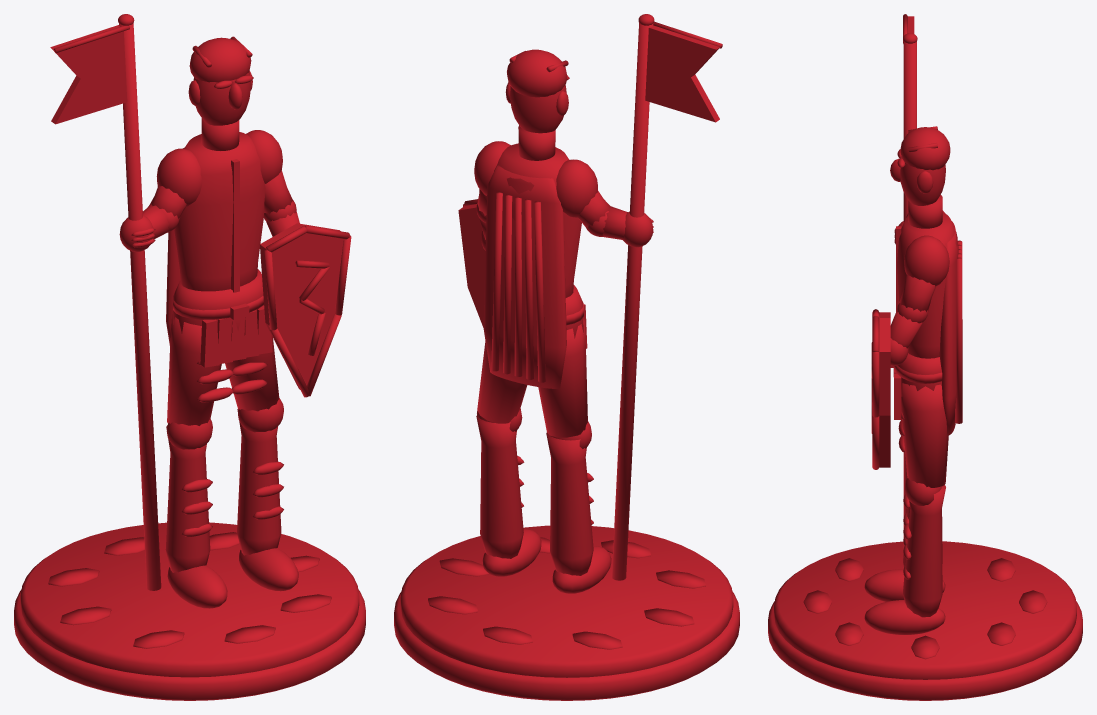
File: knight-level-2-resting.fbx
The picture shows the model from 3 angles, left to right: view 1: azimuth 30°, elevation 25°; view 2: azimuth 150°, elevation 25°; view 3: azimuth 270°, elevation 25°; orthographic projection. The views are drawn at different scales.
Parts seen in each view (by area): view 1: Knight_Level_2_Bare_Sculpt; view 2: Knight_Level_2_Bare_Sculpt; view 3: Knight_Level_2_Bare_Sculpt.
Boxes of the visible parts, x1,y1,x2,y2 form: Knight_Level_2_Bare_Sculpt: [14, 14, 365, 700]; Knight_Level_2_Bare_Sculpt: [394, 14, 739, 700]; Knight_Level_2_Bare_Sculpt: [768, 14, 1082, 700].
Bounding box in the file's own units: 0.012 × 0.024 × 0.012.
